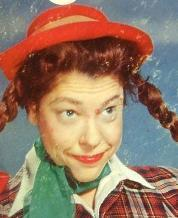face: (52, 97, 124, 163)
